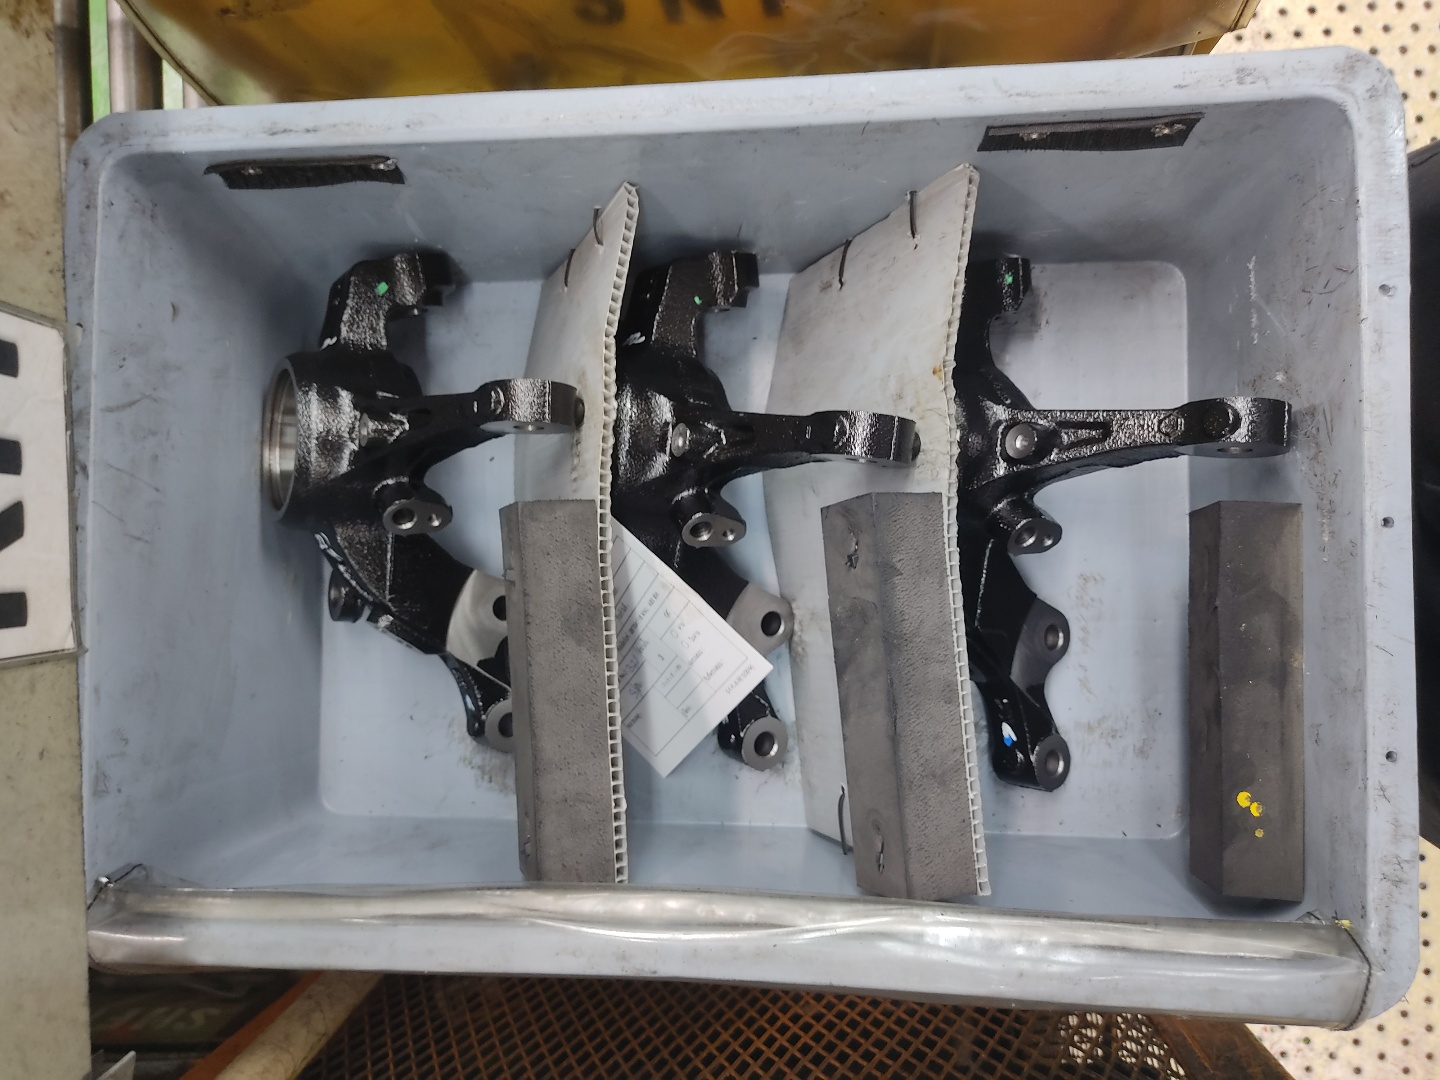abs-rh: (935, 239, 1307, 802), (246, 238, 593, 766), (600, 242, 920, 784)
